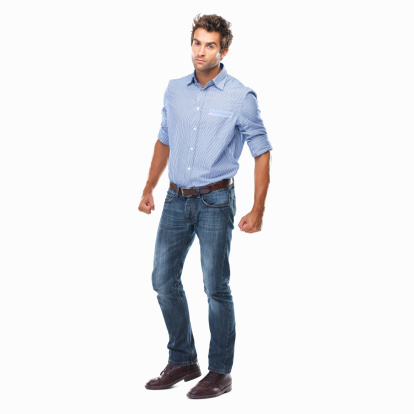em pe: (118, 6, 281, 397)
